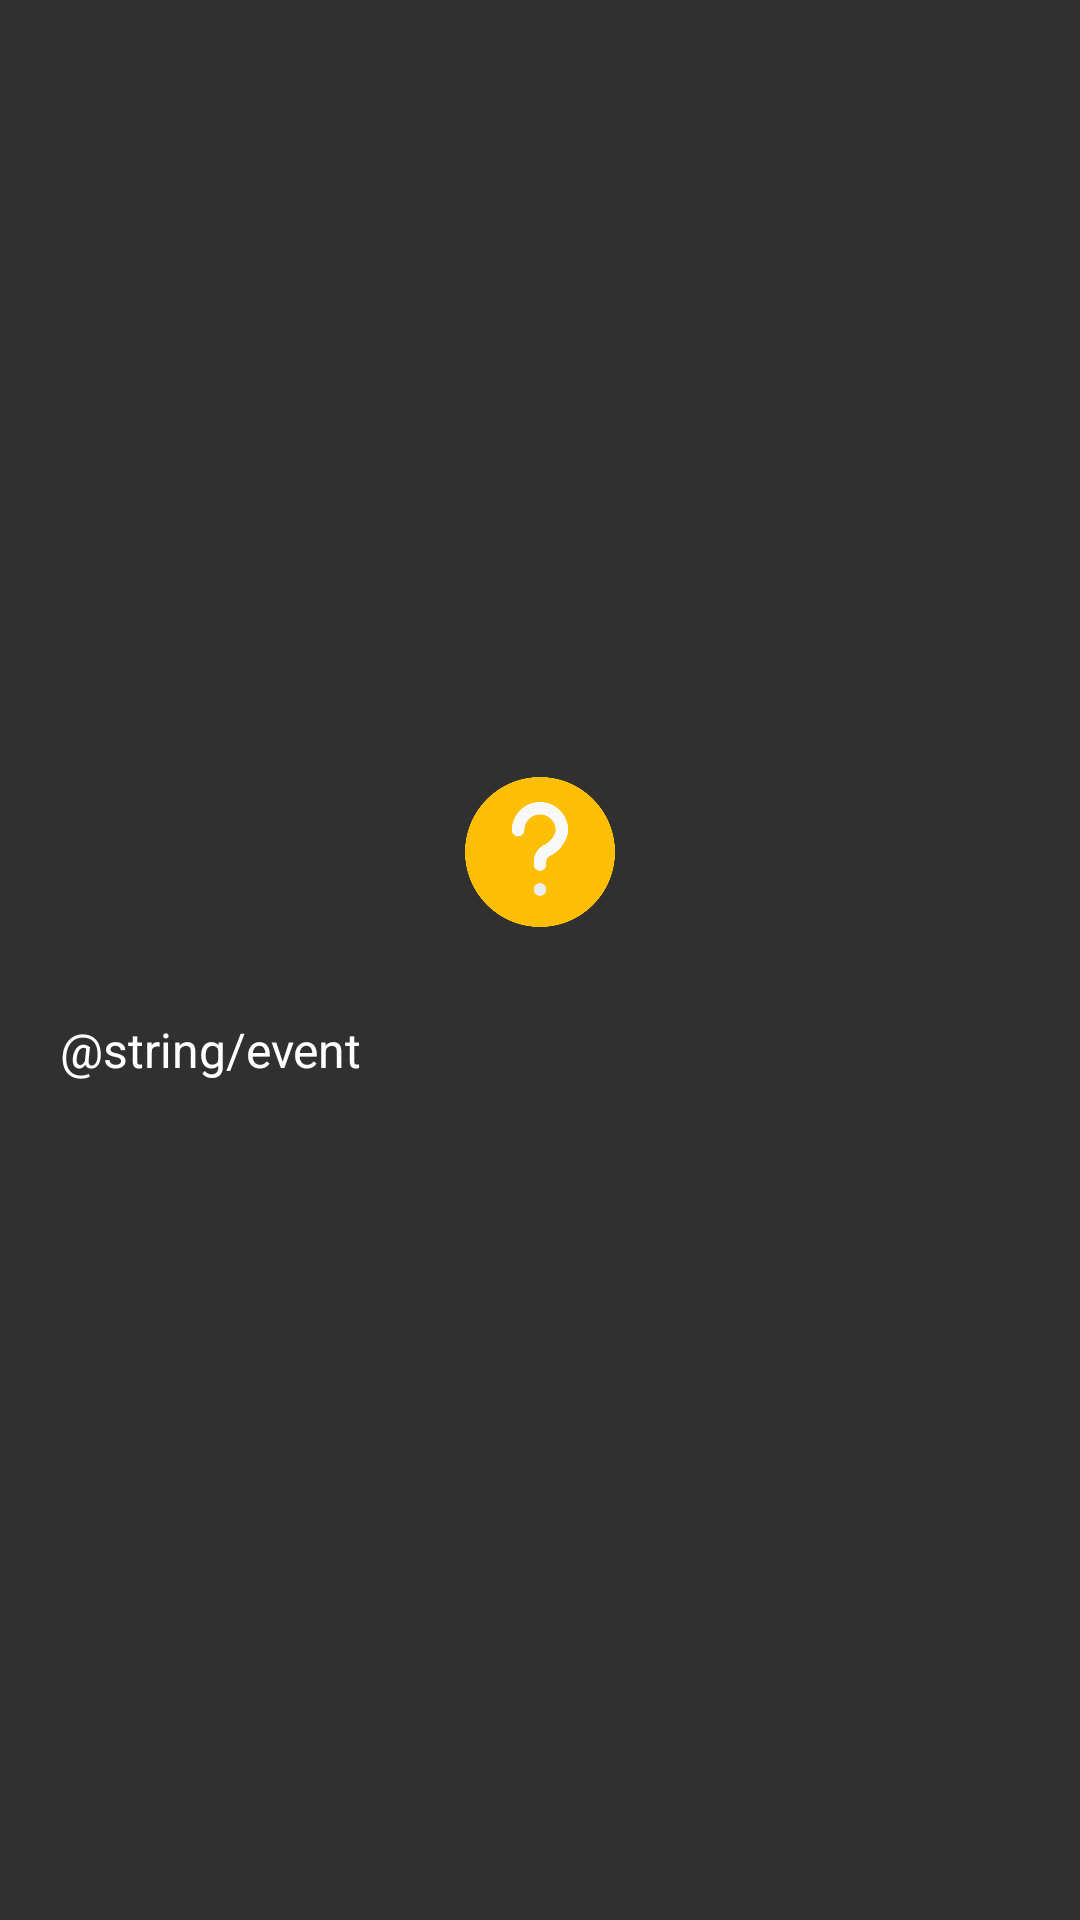

Named icons in this screenshot (1080×1920) and their centers, (x,y):
question: (540,852)
